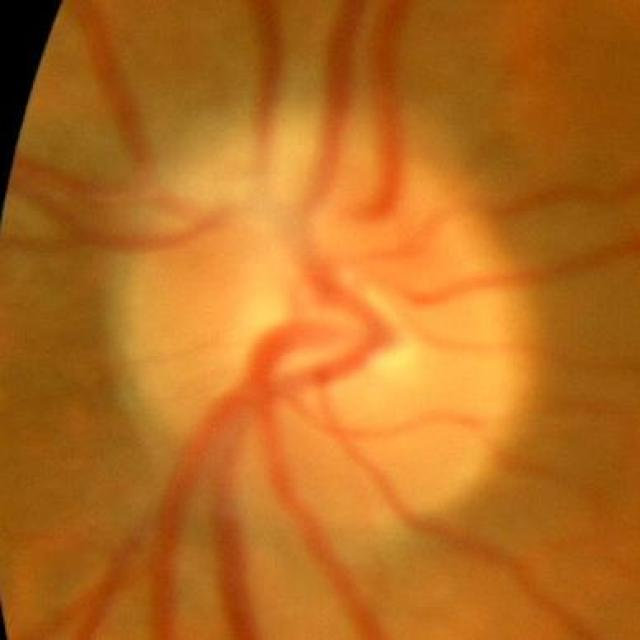OC: (233, 256, 413, 430)
OD: (112, 109, 520, 554)
